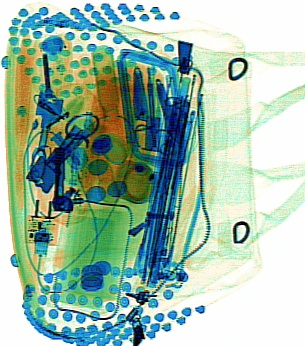scissors: (131, 66, 176, 151)
